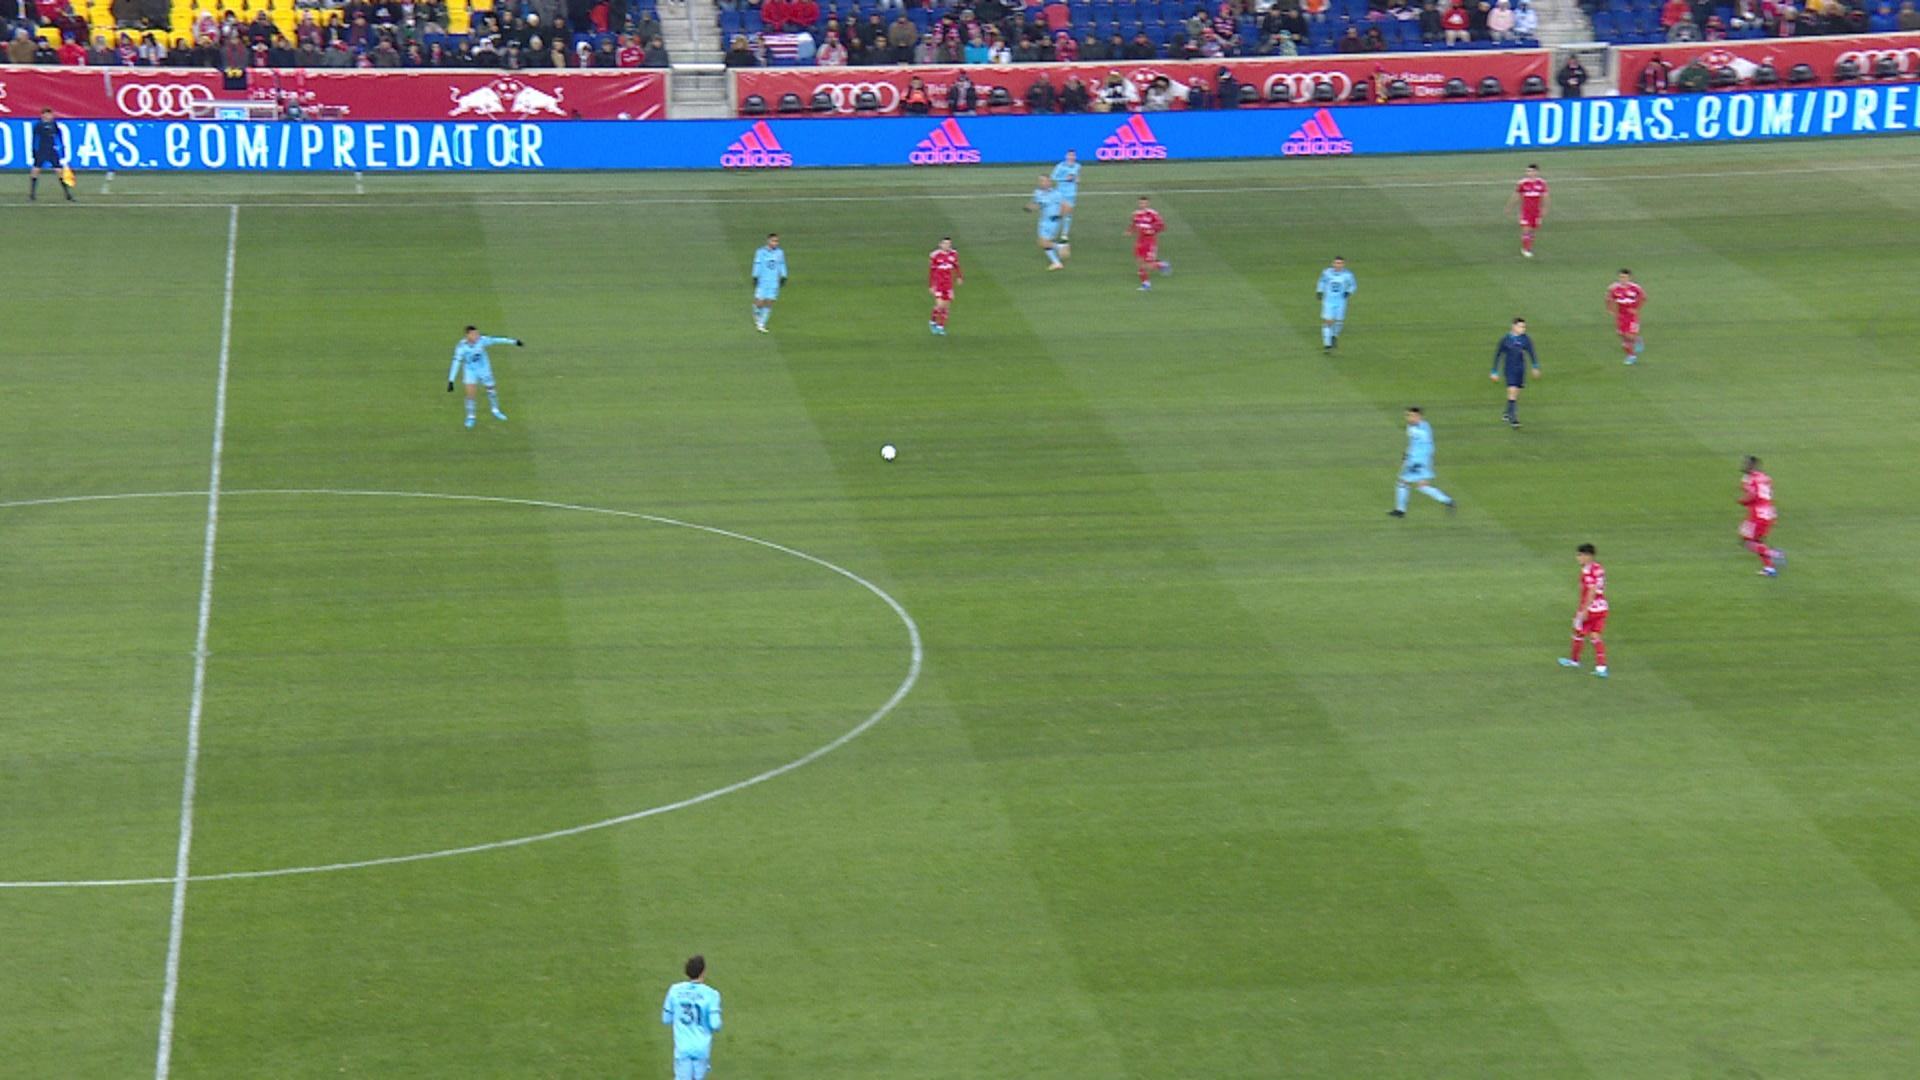football: (880, 443, 898, 463)
